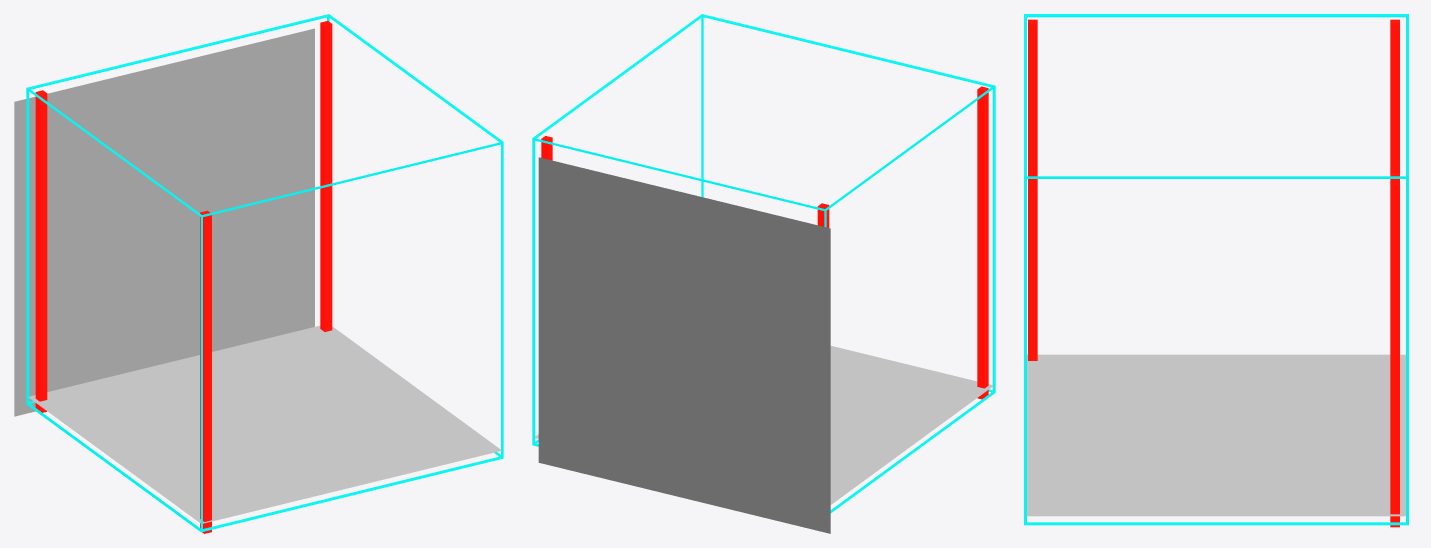
The picture shows the model from 3 angles, left to right: view 1: azimuth 30°, elevation 25°; view 2: azimuth 150°, elevation 25°; view 3: azimuth 270°, elevation 25°; orthographic projection. The views are drawn at different scales.
Visible parts, largest first — view 1: Plane.002, Plane.001, Cube.001, Cube.002, Cube.003, Cube; view 2: Plane.002, Plane.001, Cube.001, Cube; view 3: Plane.001, Cube.001, Cube.003, Cube, Cube.002.
Part boxes in pixels (box(x1,y1,x2,y2)): Plane.002: box(14, 28, 314, 416); Plane.001: box(29, 325, 500, 523); Cube.001: box(26, 14, 503, 532); Cube.002: box(35, 90, 47, 412); Cube.003: box(320, 21, 332, 331); Cube: box(200, 210, 211, 533); Plane.002: box(538, 157, 830, 533); Plane.001: box(535, 346, 992, 504); Cube.001: box(532, 14, 995, 513); Cube: box(977, 86, 988, 399); Plane.001: box(1027, 354, 1405, 516); Cube.001: box(1024, 14, 1408, 525); Cube.003: box(1390, 172, 1399, 527); Cube: box(1028, 19, 1037, 360); Cube.002: box(1390, 19, 1399, 172).
Bounding box in the file's own units: 8.27 × 8.37 × 8.21.
